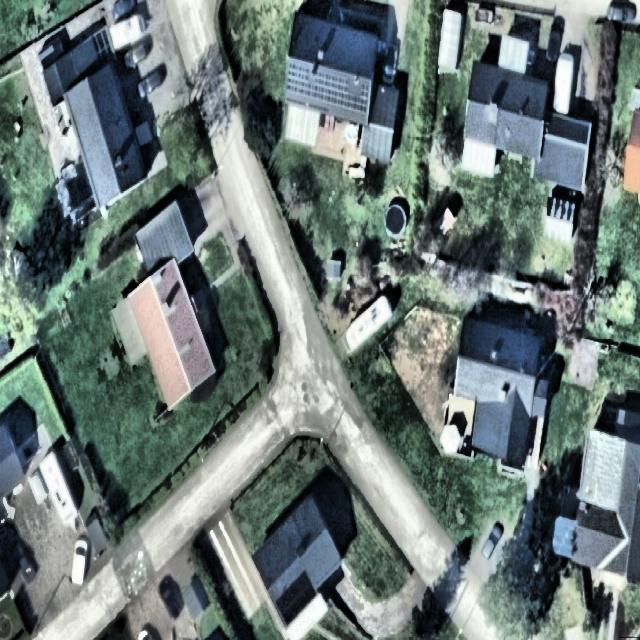roof_pv: (275, 566, 319, 629), (310, 70, 350, 108), (281, 58, 311, 100), (346, 80, 372, 120)
